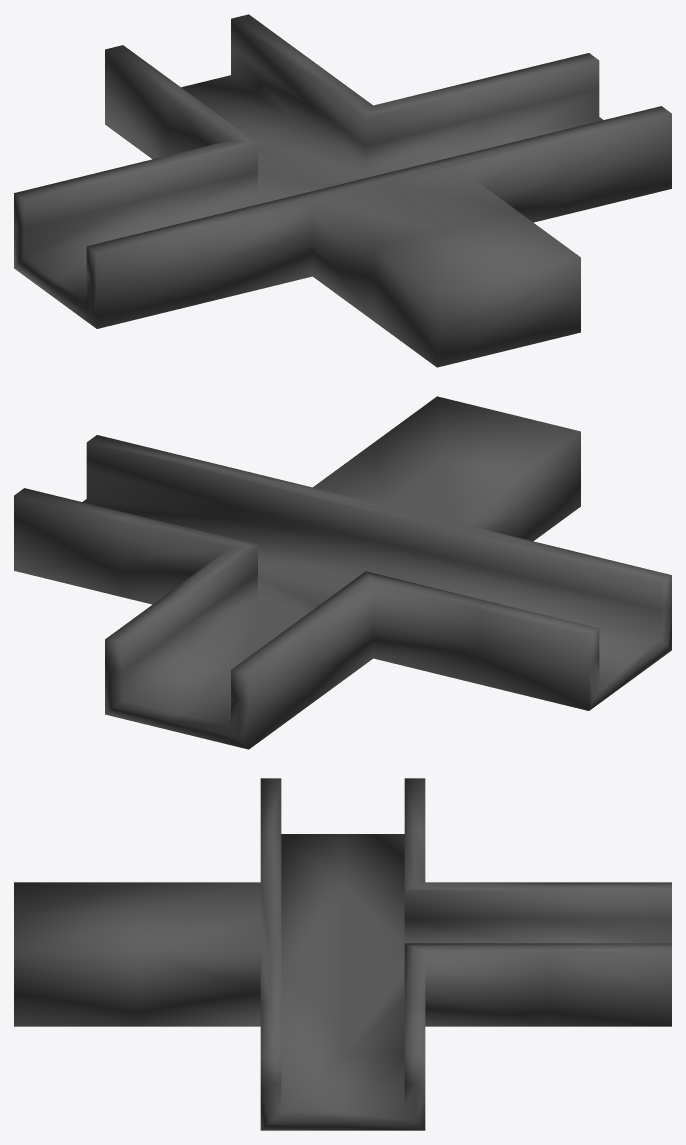
3 views of the same model, one above another, from view 1: azimuth 30°, elevation 25°; view 2: azimuth 150°, elevation 25°; view 3: azimuth 270°, elevation 25° (orthographic).
Visible parts, largest first — view 1: defaultobject; view 2: defaultobject; view 3: defaultobject.
Boxes of the visible parts, x1,y1,x2,y2 form: defaultobject: [14, 14, 671, 367]; defaultobject: [14, 396, 671, 749]; defaultobject: [14, 778, 671, 1130].
Bounding box in the file's own units: 1 × 0.125 × 1.
1 material, 1 textured.
